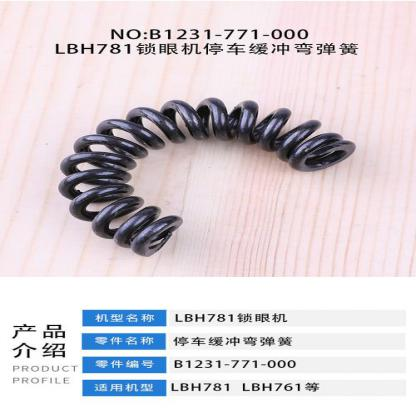FOD: (50, 94, 359, 259)
